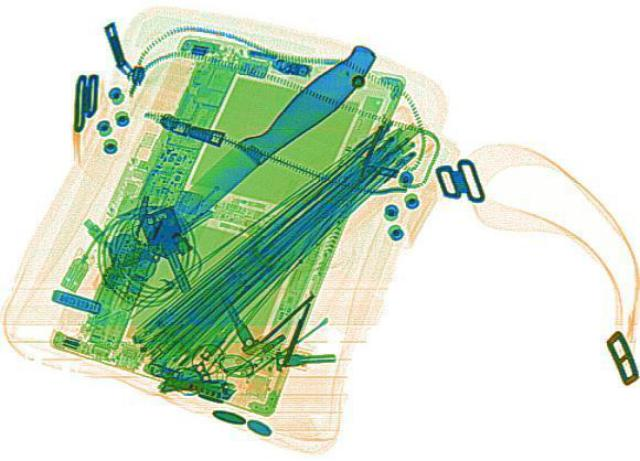Knife: (140, 40, 392, 243)
